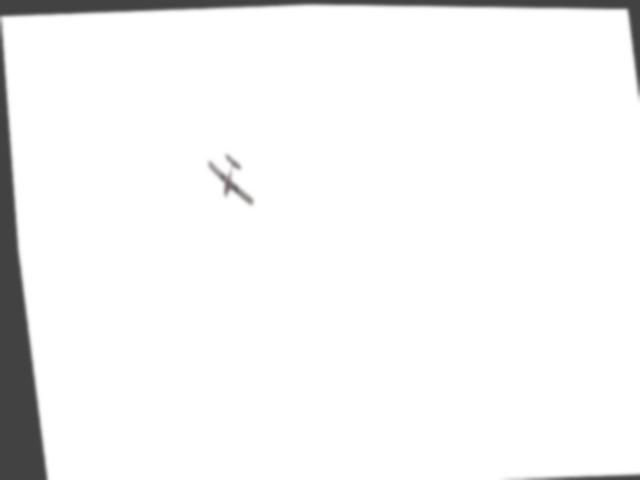uav: (202, 140, 253, 208)
